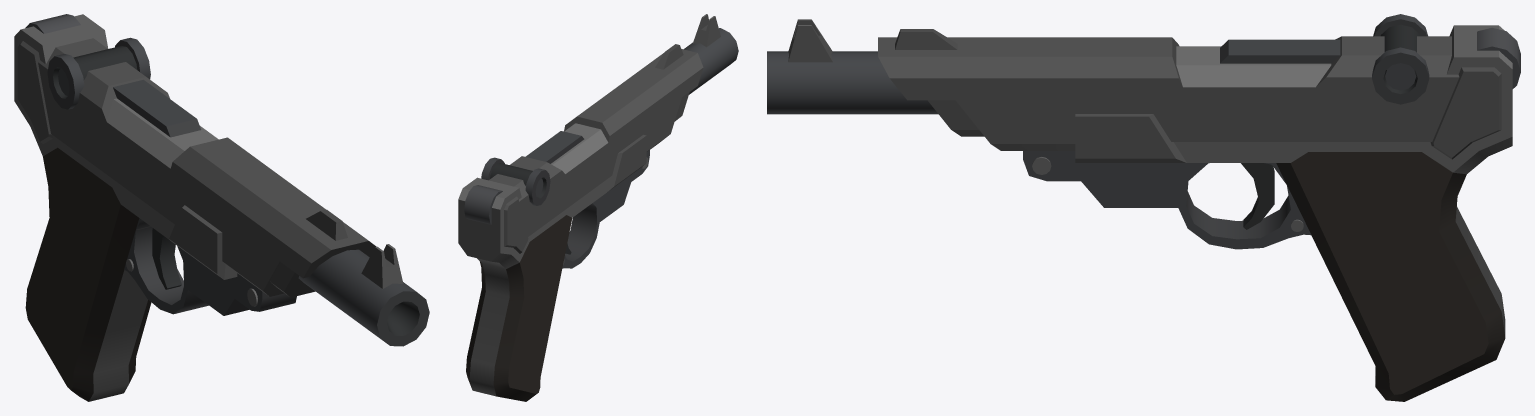
The model's file is Weapon_PISTOL_Boss_01.fbx.
The picture shows the model from 3 angles, left to right: view 1: azimuth 30°, elevation 25°; view 2: azimuth 150°, elevation 25°; view 3: azimuth 270°, elevation 25°; orthographic projection. The views are drawn at different scales.
Visible parts, largest first — view 1: Weapon_PISTOL_Boss_01; view 2: Weapon_PISTOL_Boss_01; view 3: Weapon_PISTOL_Boss_01.
Boxes of the visible parts, left/top/right/bottom form: Weapon_PISTOL_Boss_01: left=14, top=14, right=429, bottom=401; Weapon_PISTOL_Boss_01: left=458, top=14, right=738, bottom=401; Weapon_PISTOL_Boss_01: left=767, top=14, right=1520, bottom=401.
Bounding box in the file's own units: 0.909 × 4.07 × 7.51.
